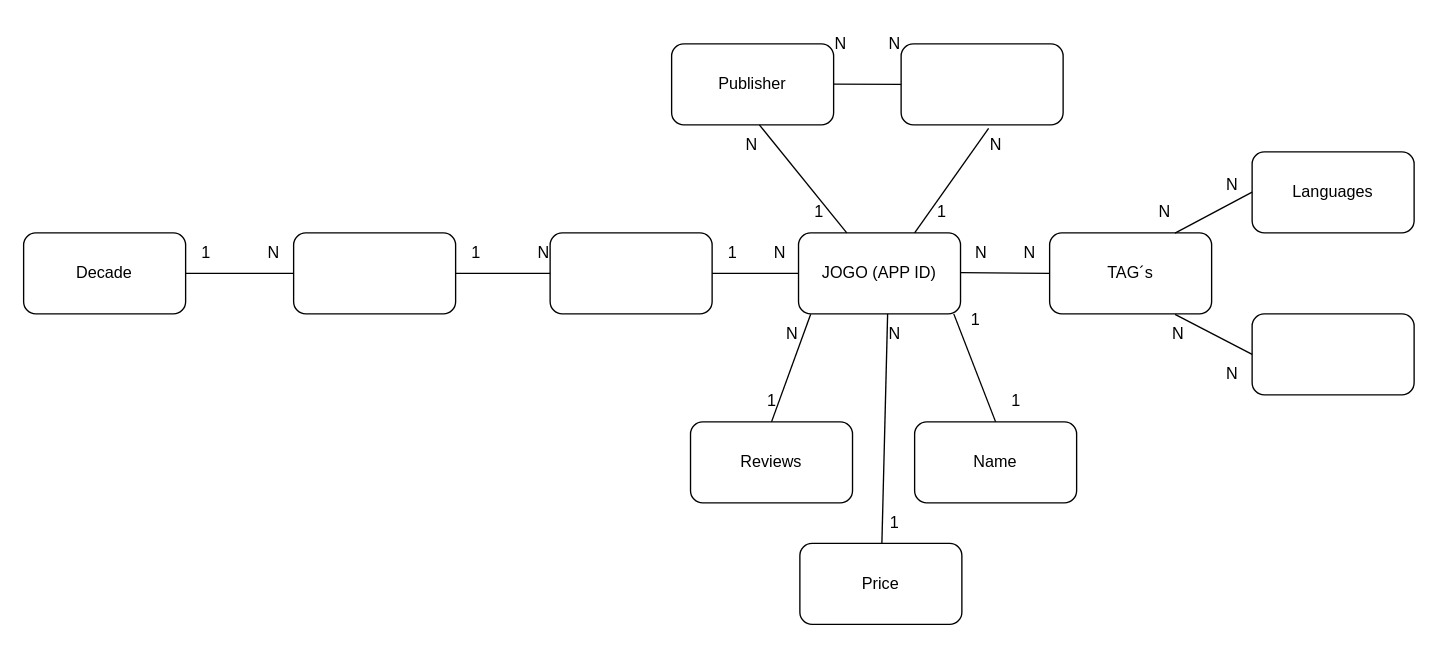
Image size: 1438x648. Some labels were removed from this diagram. The centre of each missing label's shape, as x and y in pixels:
Dev: point (981, 84)
Genres: point (1332, 354)
Realese Date: point (630, 273)
Year: point (374, 273)
